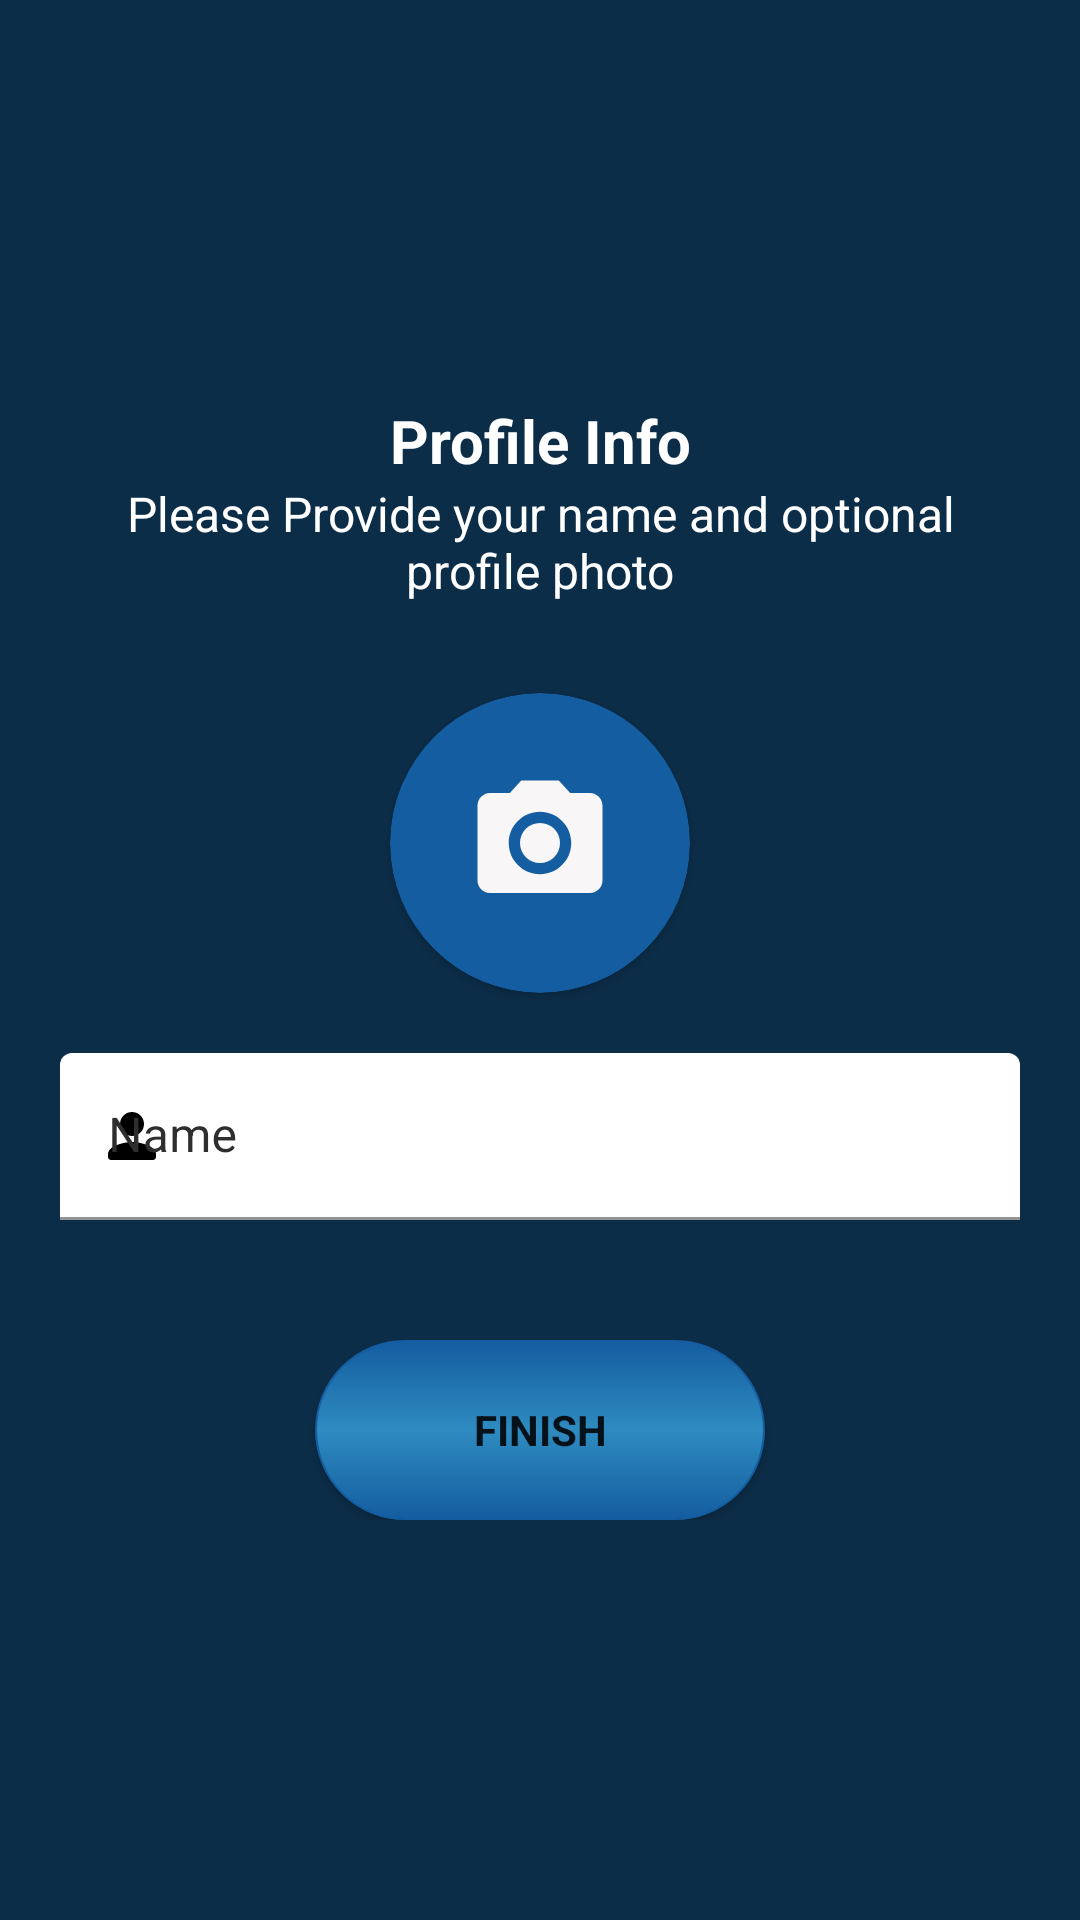

Icons on this 1080 x 1920 Android screen, each with the point to tap as (x=x, y=y):
photo camera: (x=540, y=836)
